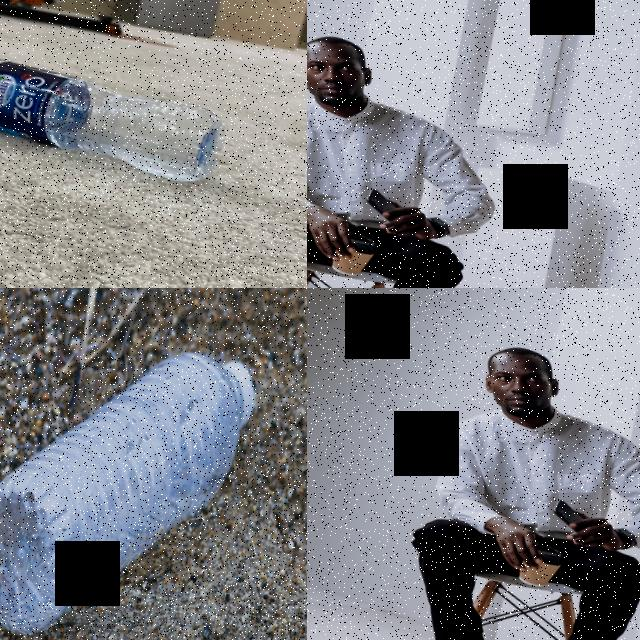bottle: (0, 317, 263, 640), (0, 38, 235, 192)
cup: (327, 227, 386, 286), (514, 538, 573, 597)
